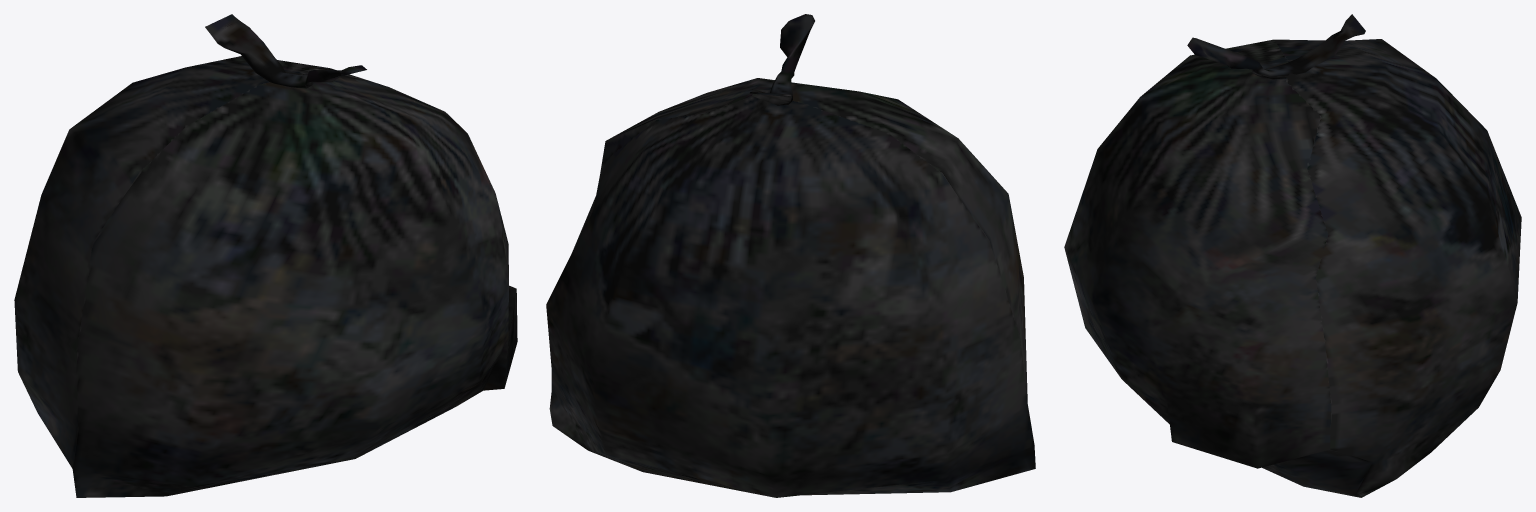
The model's file is sm20_002_garbagebags01a.fbx.
The picture shows the model from 3 angles, left to right: view 1: azimuth 30°, elevation 25°; view 2: azimuth 150°, elevation 25°; view 3: azimuth 270°, elevation 25°; orthographic projection. The views are drawn at different scales.
Visible parts, largest first — view 1: LOD_1_Group_4_Sub_1__sm20_002_GarbageBags01A_A_Mat; view 2: LOD_1_Group_4_Sub_1__sm20_002_GarbageBags01A_A_Mat; view 3: LOD_1_Group_4_Sub_1__sm20_002_GarbageBags01A_A_Mat.
Part boxes in pixels (x1,y1,x2,y2): LOD_1_Group_4_Sub_1__sm20_002_GarbageBags01A_A_Mat: (14, 14, 517, 497); LOD_1_Group_4_Sub_1__sm20_002_GarbageBags01A_A_Mat: (546, 14, 1035, 497); LOD_1_Group_4_Sub_1__sm20_002_GarbageBags01A_A_Mat: (1064, 14, 1521, 497).
Size of the model in its own units: 0.5682 by 0.4806 by 0.5152.
